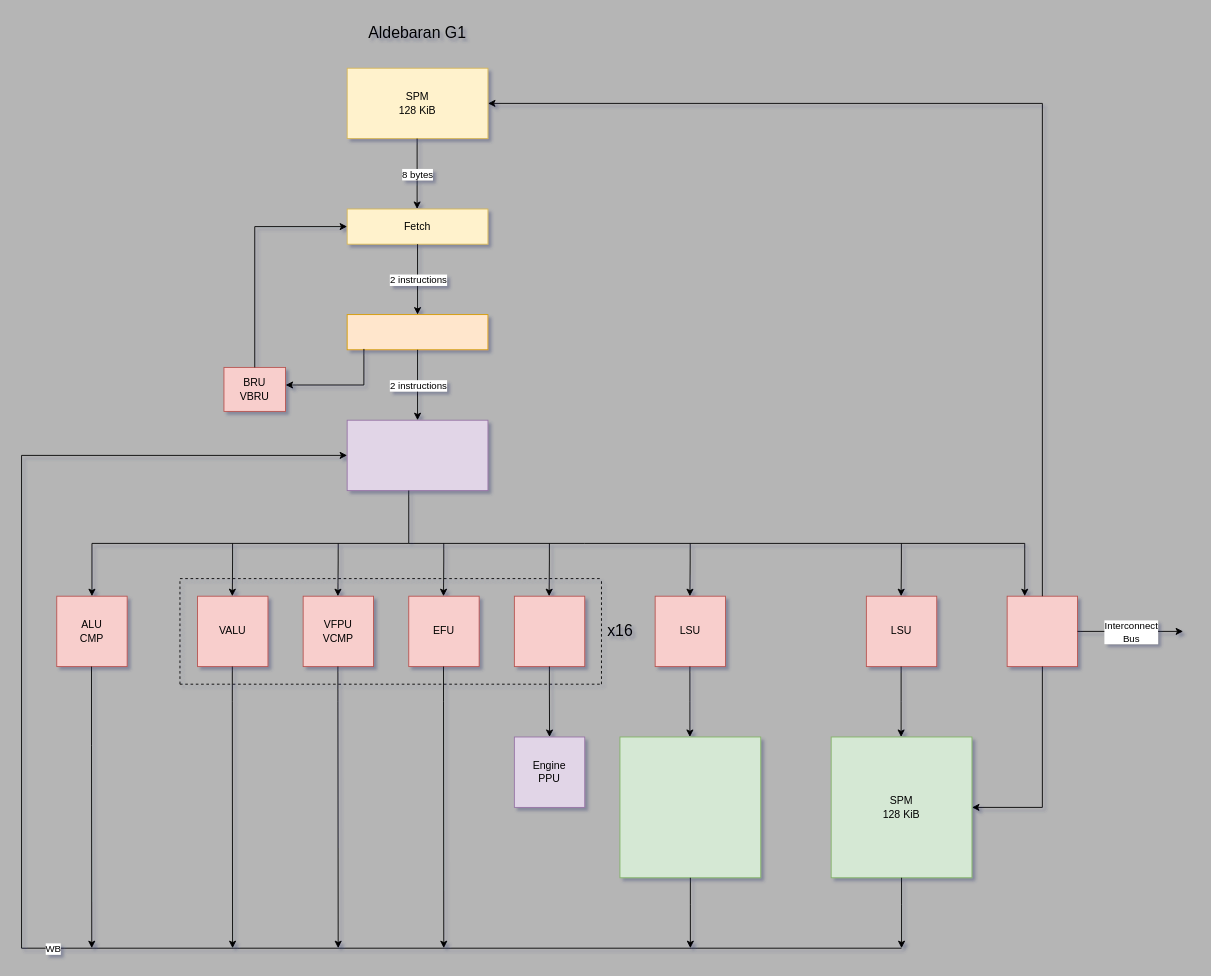
This 1211x976 diagram has some shape labels left out. The shapes that lost their labels are listed below. From the top down, each one's centre as x and y in pixels, then its label:
At [417,332]: "Decode x2".
At [417,455]: "Register/Issue".
At [549,631]: "PPU".
At [1042,631]: "DMA".
At [690,807]: "Cache 4-way 32 KiB".
